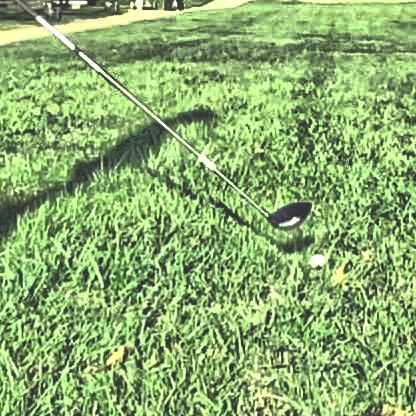golfball: (305, 251, 322, 266)
